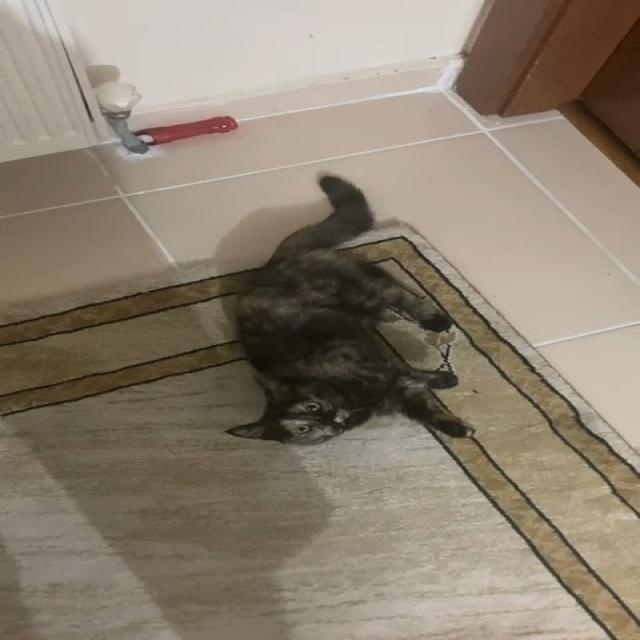authorized: (221, 172, 475, 446)
